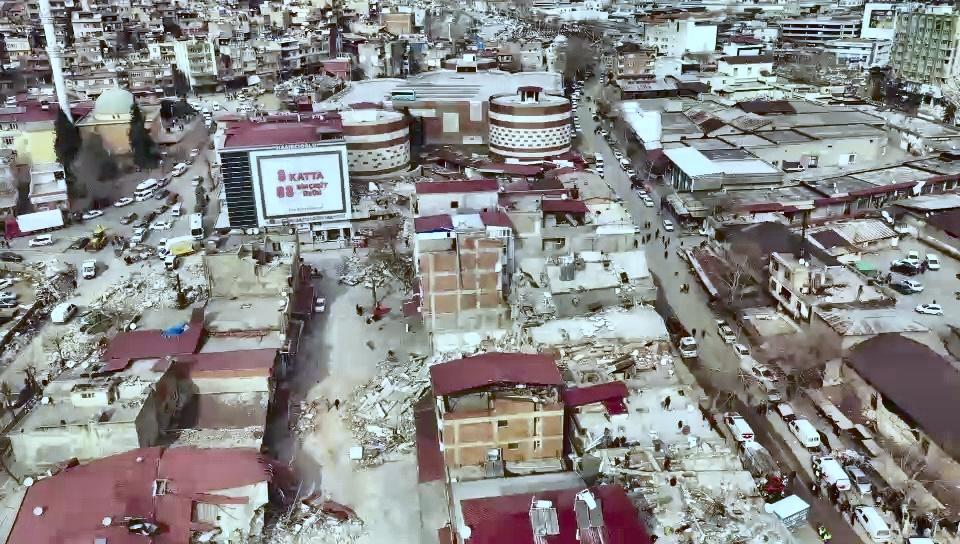kapali: (275, 336, 433, 494)
